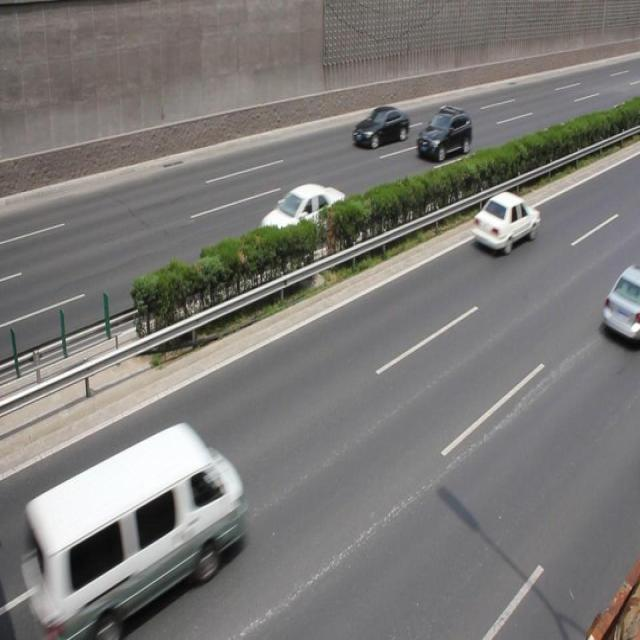car: (257, 183, 345, 258), (471, 192, 538, 254), (416, 104, 471, 164), (600, 260, 640, 342), (352, 105, 409, 153)
truck: (19, 417, 245, 640)
